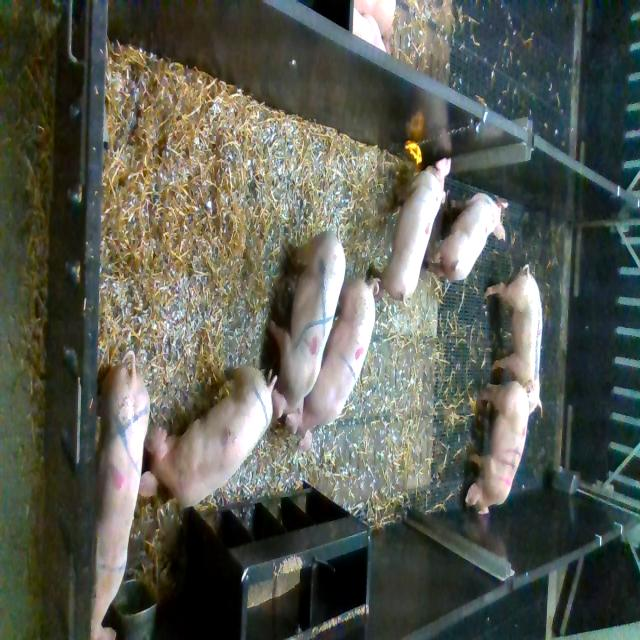pig: (138, 367, 277, 508), (91, 350, 150, 639), (269, 223, 346, 434), (298, 276, 381, 452), (371, 157, 451, 307), (484, 263, 543, 418), (465, 381, 529, 514), (427, 192, 509, 280)
